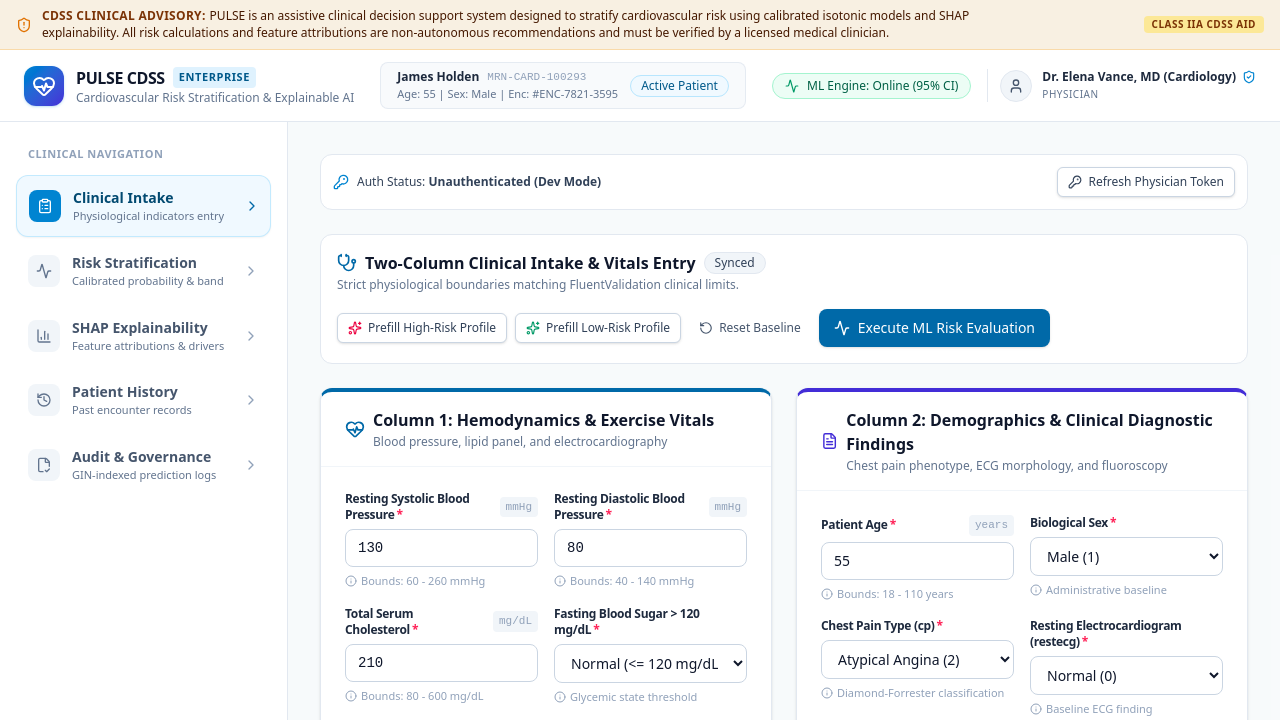
App Portal Integration › switches between tabs when navigation clicked
The width and height of the screenshot is (1280, 720).
# Switch to Assessment tab
Step 1. Click the button "Risk Stratification Calibrated probability & band" → (144, 271), box left=16, top=241, right=271, bottom=302
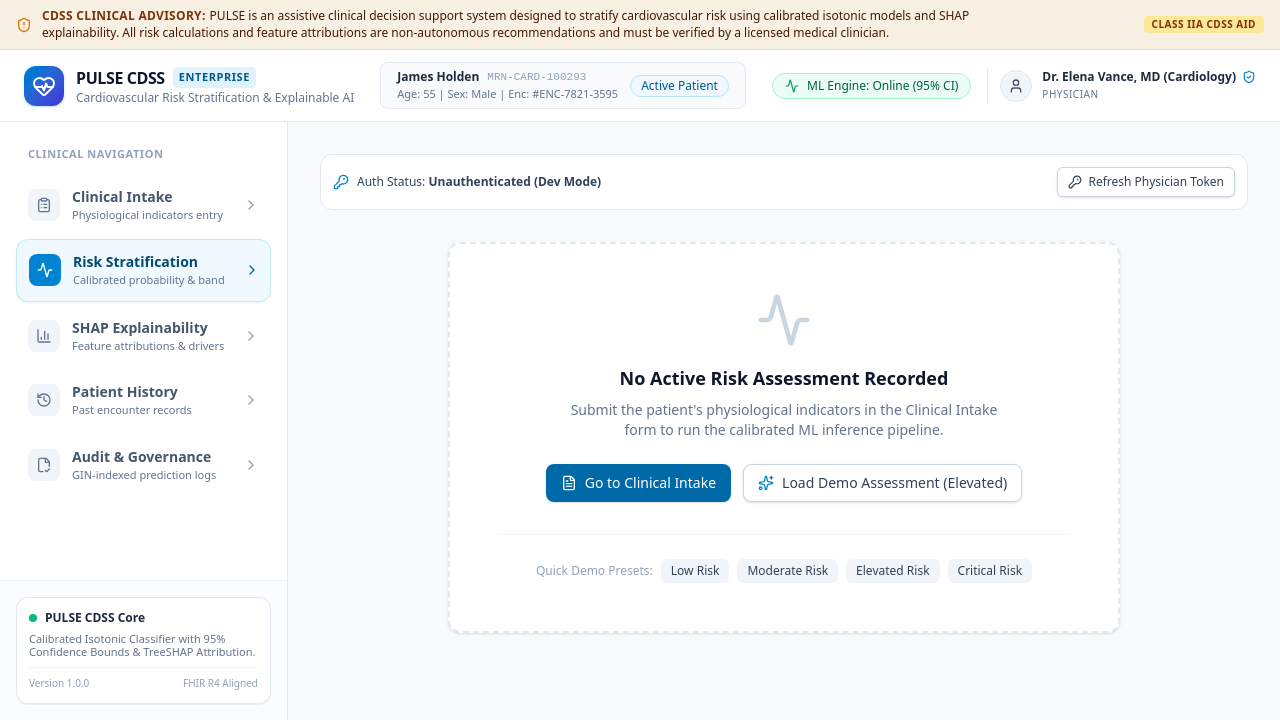
Check: the heading "No Active Risk Assessment Recorded" is shown, box left=620, top=366, right=948, bottom=390
# Switch to SHAP Explainability tab
Step 2. Click the button "SHAP Explainability Feature attributions & drivers" → (144, 336), box left=16, top=306, right=271, bottom=366
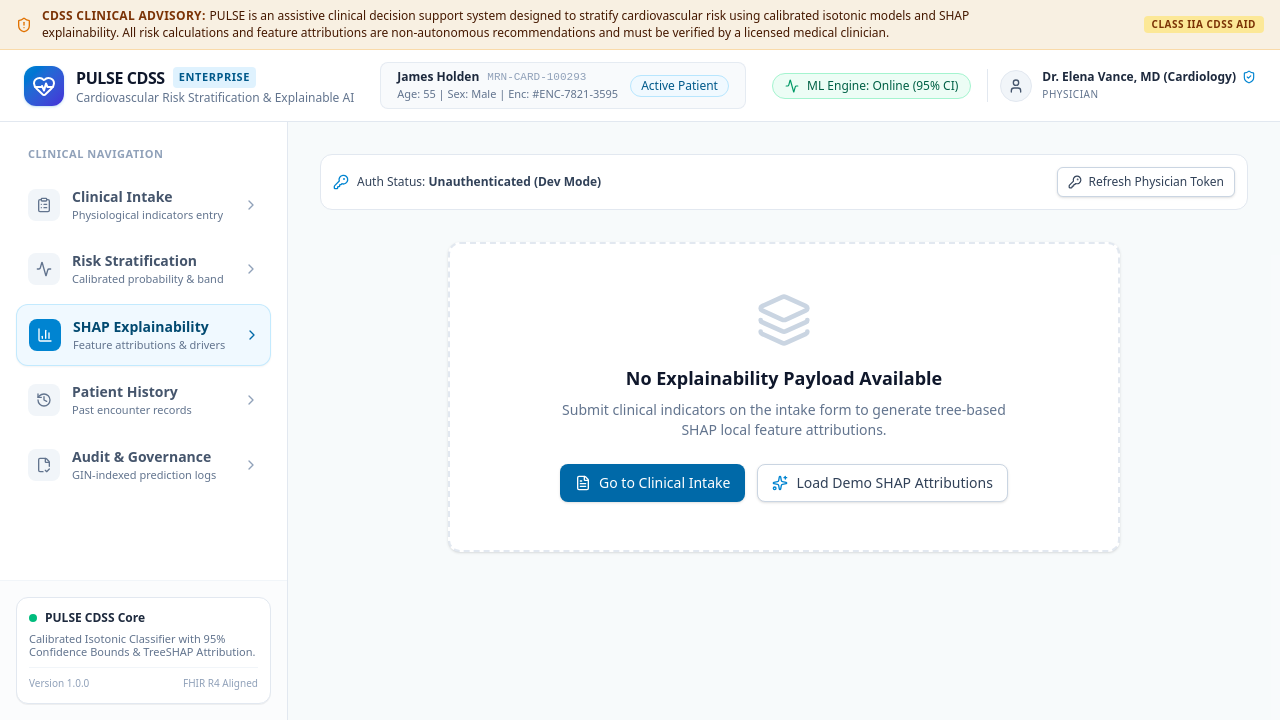
Check: the heading "No Explainability Payload Available" is shown, box left=626, top=366, right=942, bottom=390
# Switch to Audit tab
Step 3. Click the button "Audit & Governance GIN-indexed prediction logs" → (144, 465), box left=16, top=434, right=271, bottom=495
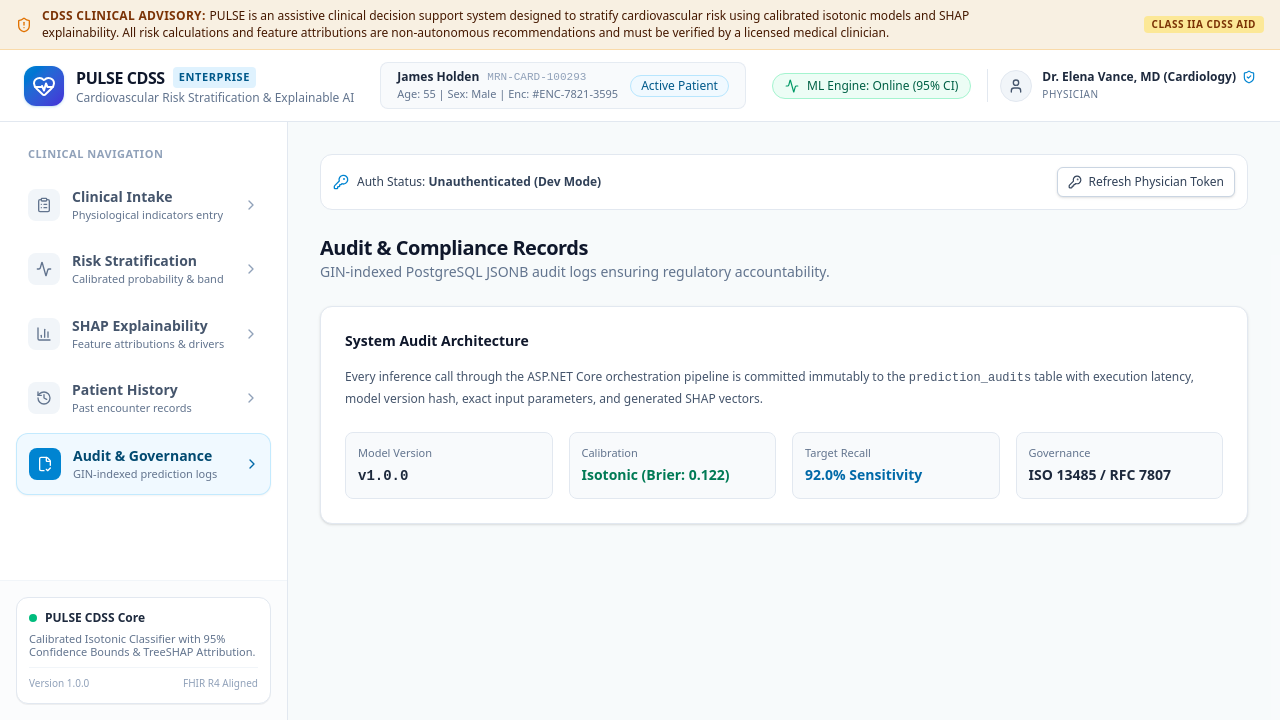
Check: the heading "Audit & Compliance Records" is shown, box left=320, top=234, right=588, bottom=261
# Switch to History tab
Step 4. Click the button "Patient History Past encounter records" → (144, 398), box left=16, top=368, right=271, bottom=428
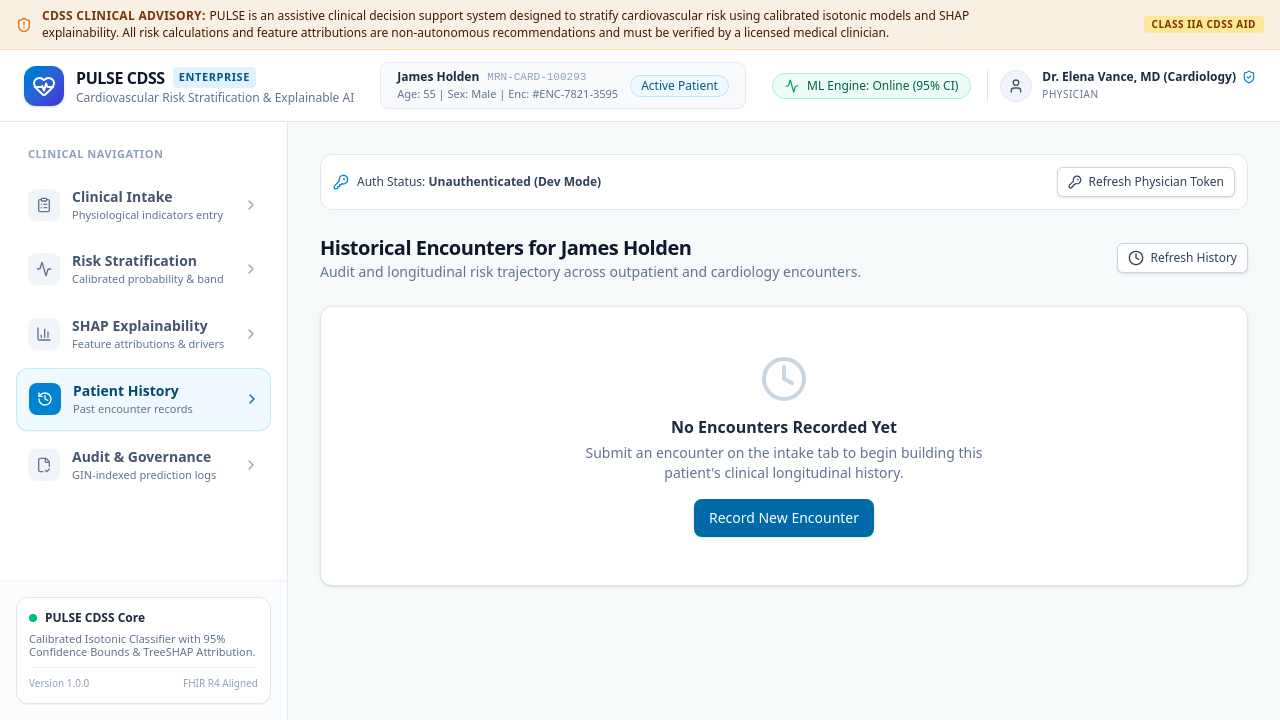
Check: the heading "Historical Encounters for James Holden" is shown, box left=320, top=234, right=691, bottom=261
